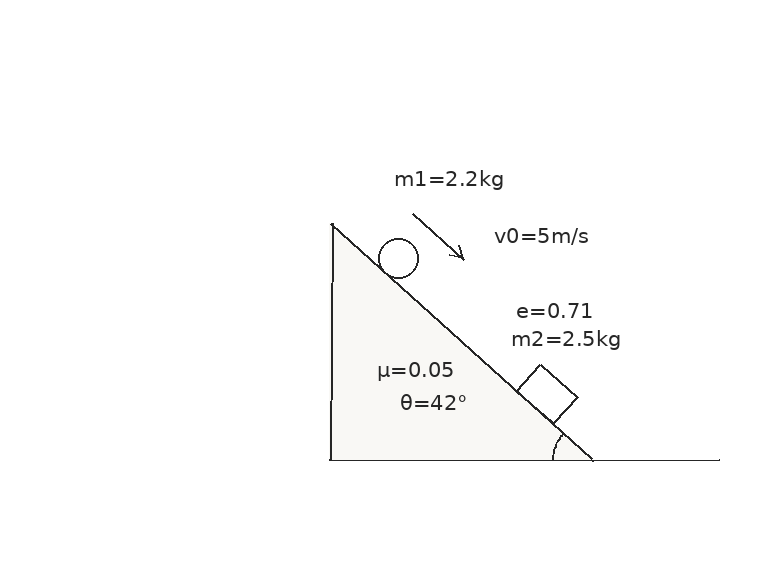ball: (376, 236, 420, 280)
block: (514, 362, 578, 426)
ramp: (328, 221, 595, 462)
